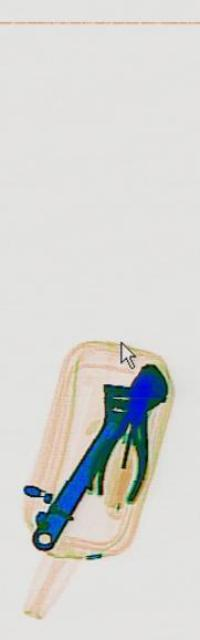Wrench: (24, 307, 166, 587)
